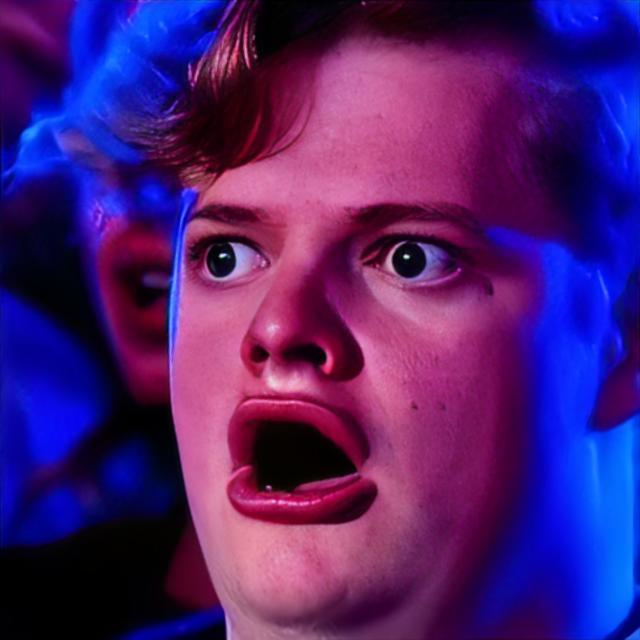fear: (165, 23, 595, 640)
